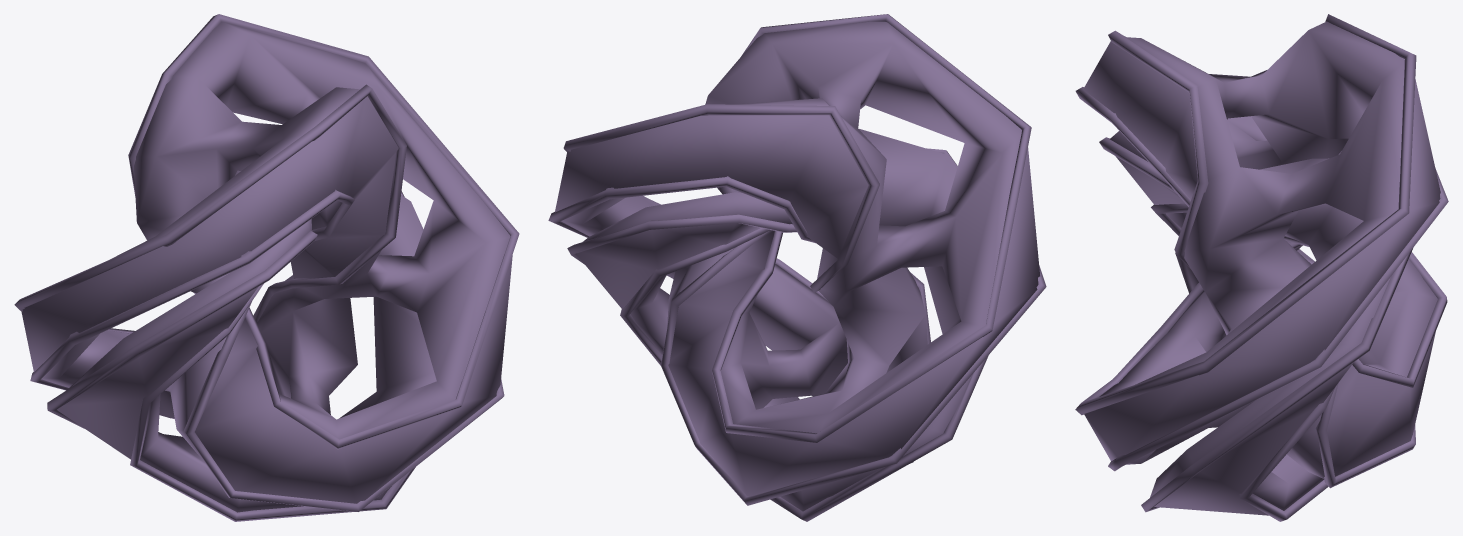
3 renders of one model, left to right at view 1: azimuth 30°, elevation 25°; view 2: azimuth 150°, elevation 25°; view 3: azimuth 270°, elevation 25°, orthographic. The views are drawn at different scales.
Parts seen in each view (by area): view 1: Torus_05; view 2: Torus_05; view 3: Torus_05.
Part boxes in pixels (x1,y1,x2,y2): Torus_05: (14, 14, 519, 521); Torus_05: (548, 14, 1046, 521); Torus_05: (1075, 14, 1448, 521).
Bounding box in the file's own units: 271 × 250 × 184.
Materials: 1 (1 with a texture image).
